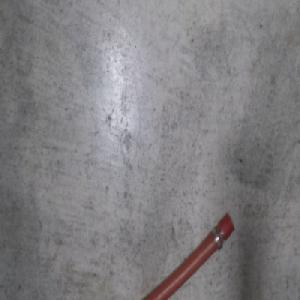Hose: (136, 212, 235, 300)
